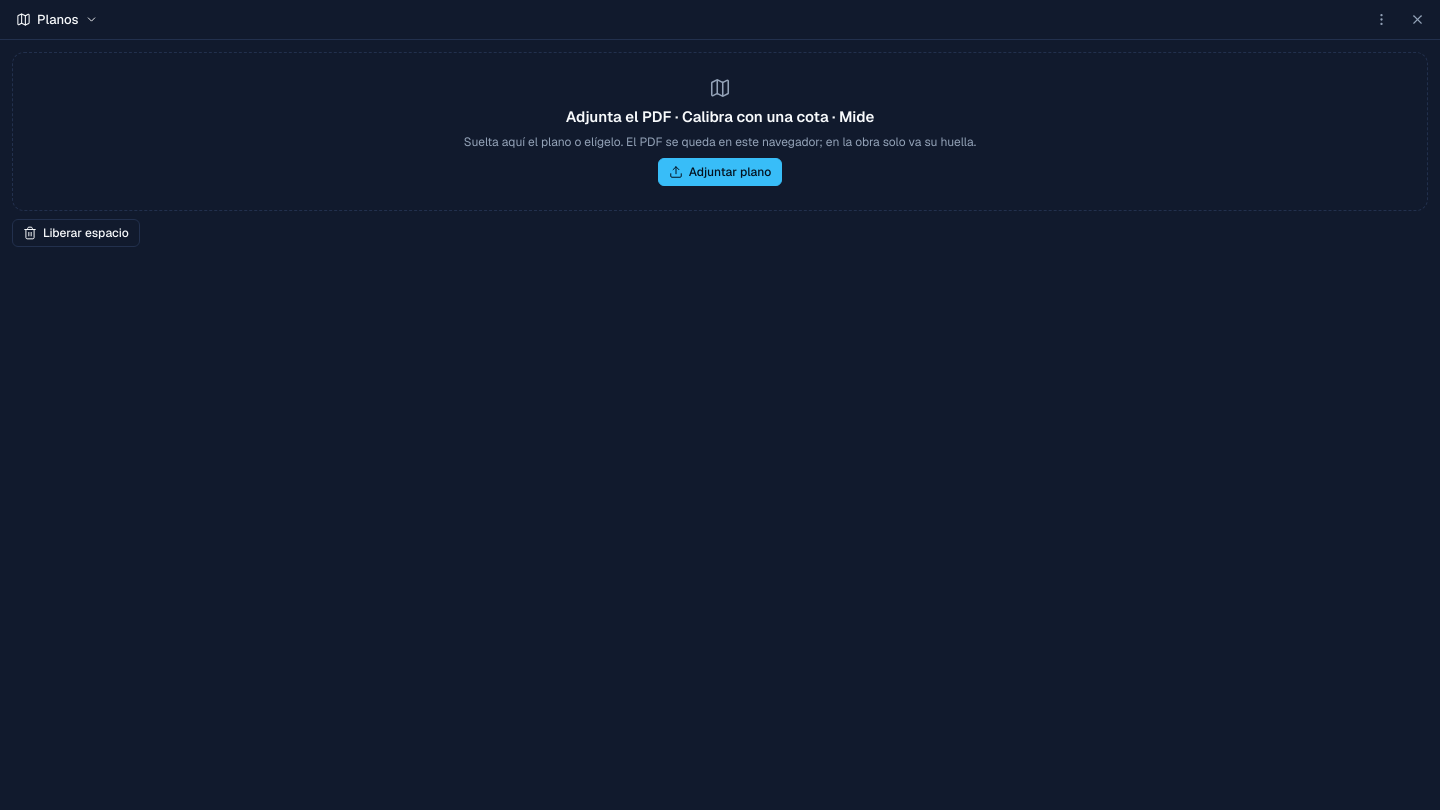
it: Liberar espacio › sin nada que liberar, lo dice
What coordinates should you click on to do the following:
click the button "Liberar espacio"
I would click on:
 (76, 233)
Its box is [12,219,140,247].
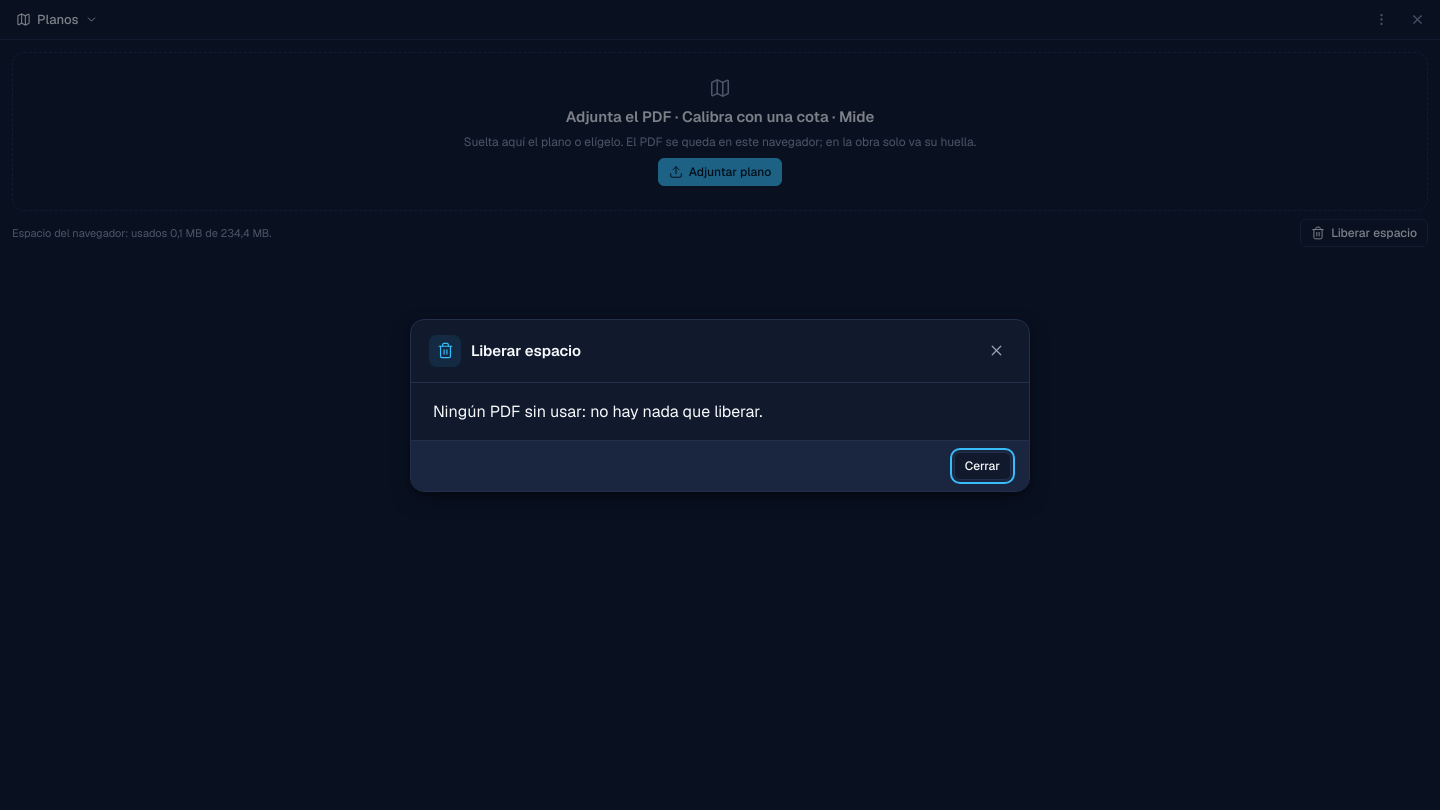
expect the text "Ningún PDF sin usar: no hay nada que liberar." is shown: met, box [433,400,762,422]
expect the button "Cerrar" is shown: met, box [954,452,1011,480]
